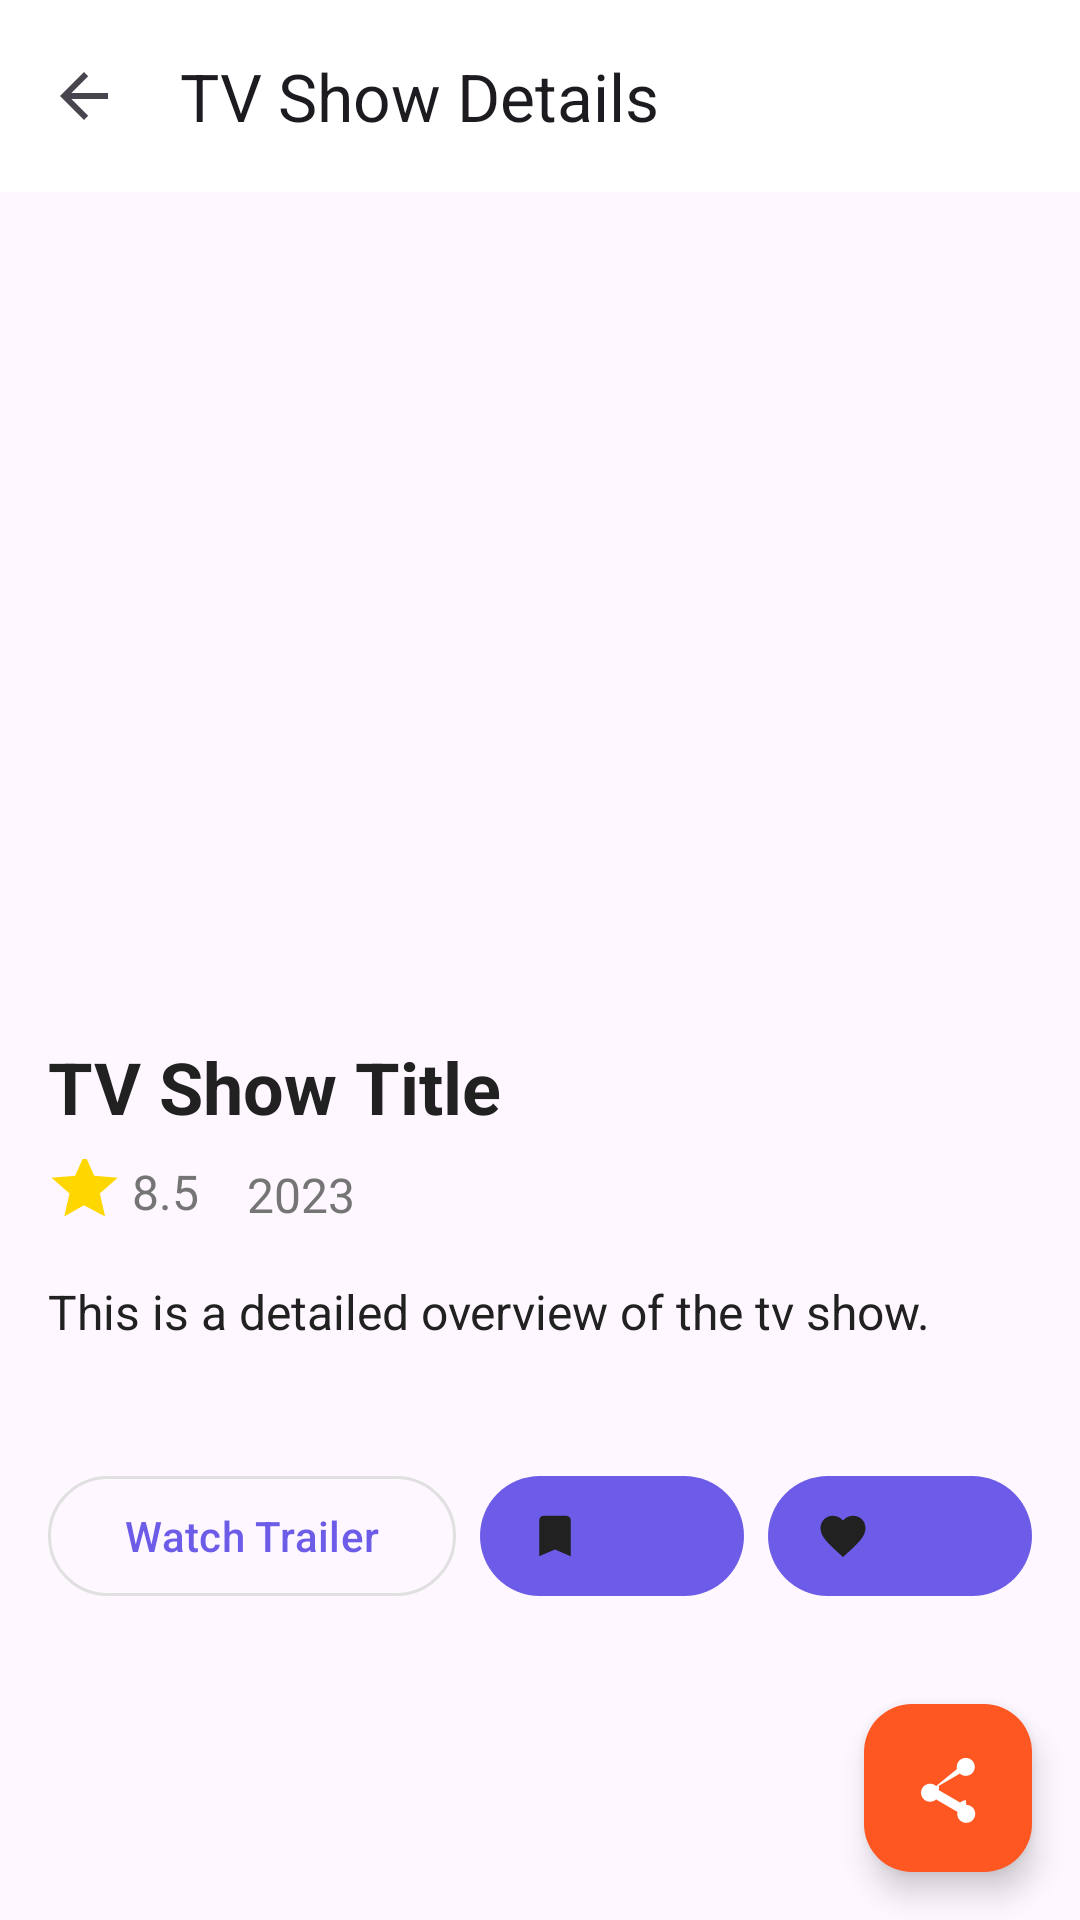

Named icons in this screenshot (1080×1920) and their centers, (x=x, y=y):
bookmark: (x=612, y=1536)
Share via: (x=948, y=1788)
